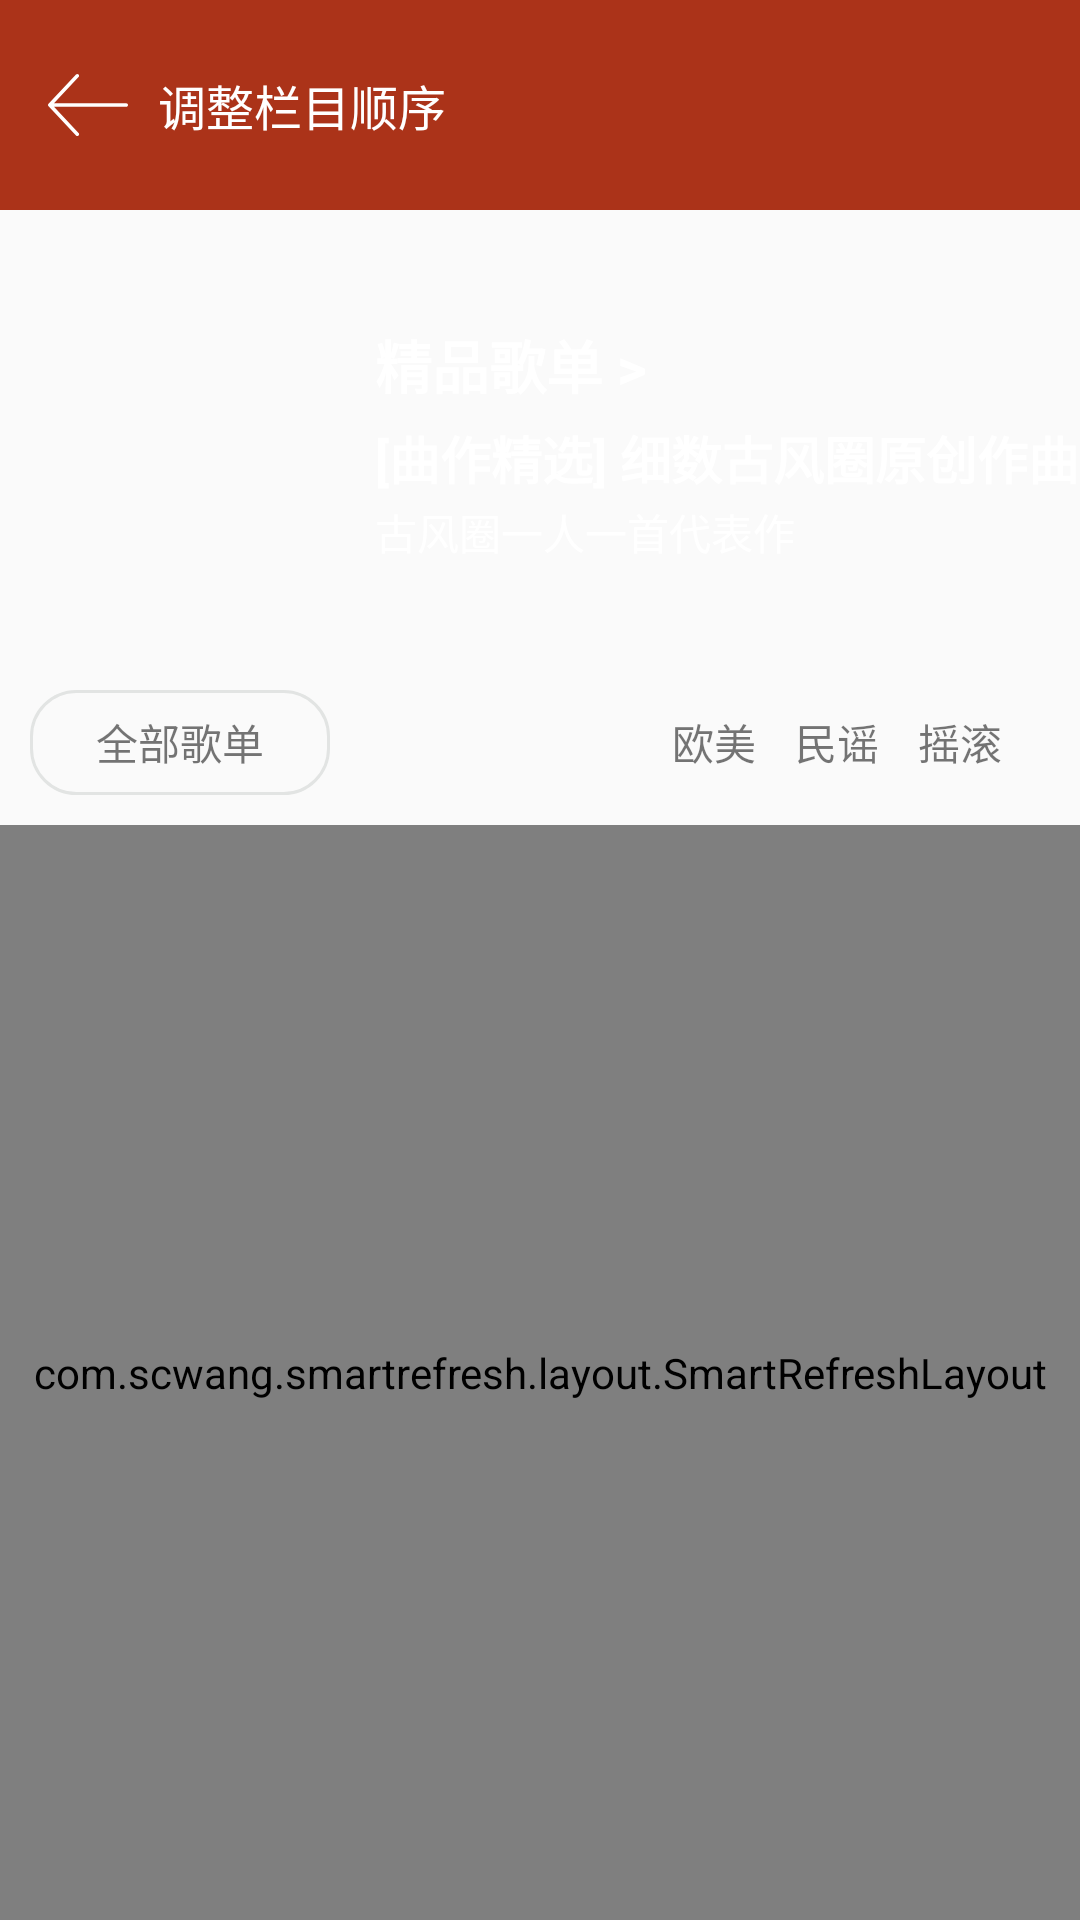

Icons on this 1080w x 1920h Android screen, each with its box as (x1, y1, x2, y2):
back: (48, 74, 128, 136)
